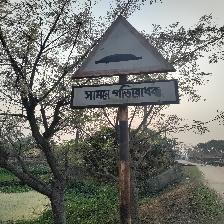Speed-breaker: (70, 14, 180, 110)
